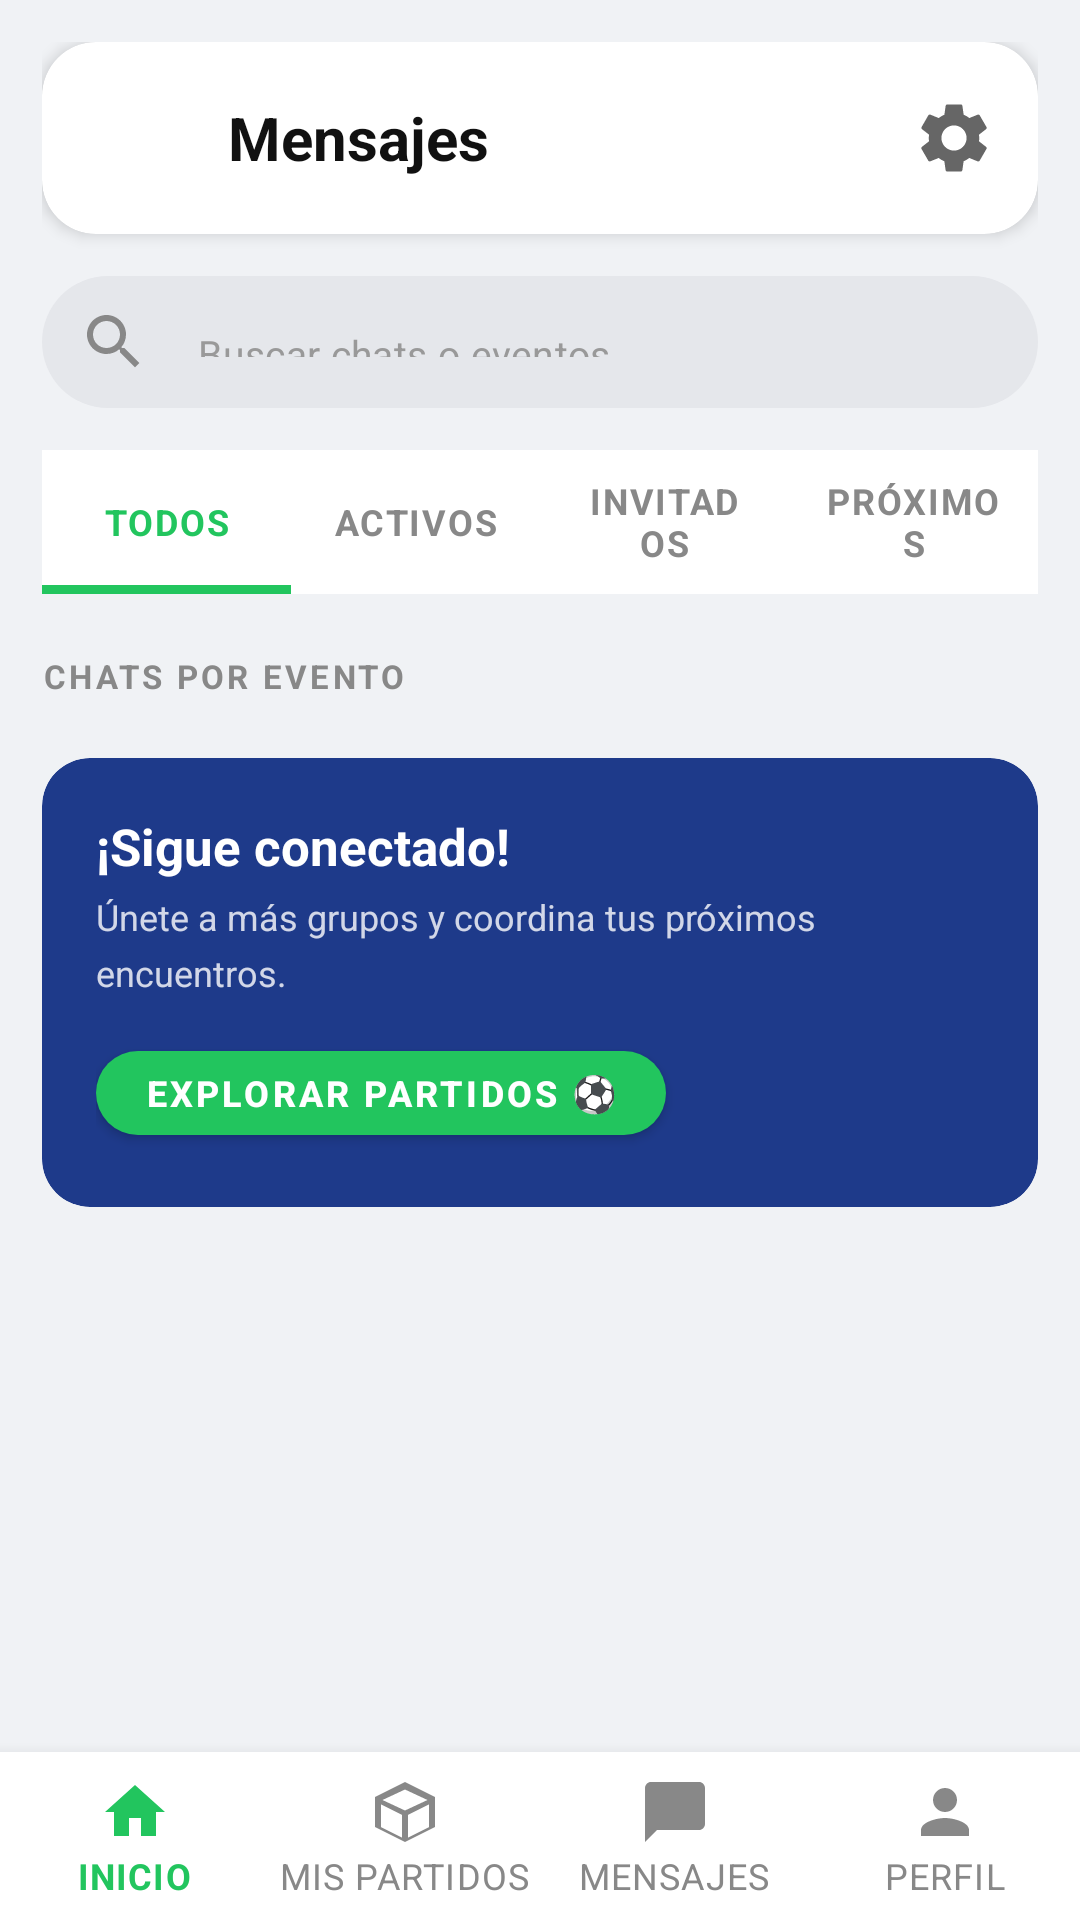

Where to tap for icons on this 1080 x 1920 app screen, as point (x, y):
Configuración: point (954, 138)
